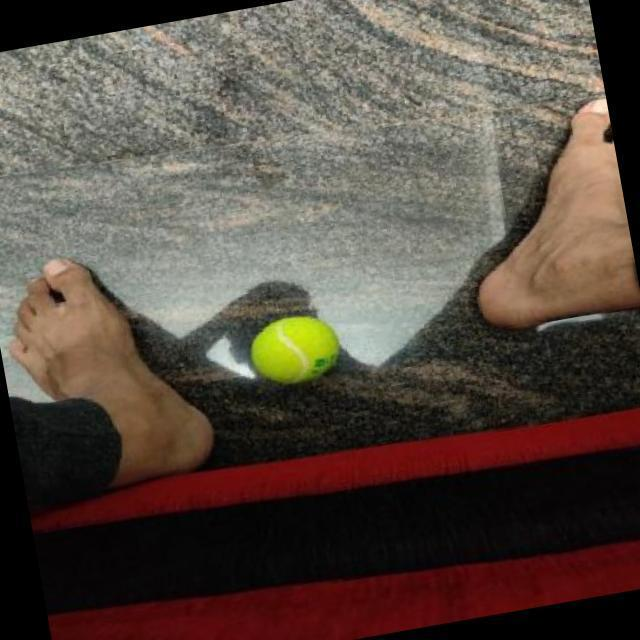-: (209, 265, 416, 434)
